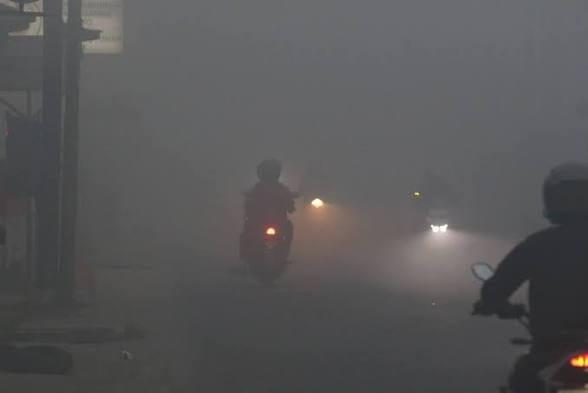Deteksi-Objek-Citra-Berasap: (0, 0, 588, 393)
Gedung: (0, 0, 125, 310)
Kendaraan: (470, 262, 588, 393), (240, 194, 301, 286), (411, 185, 460, 246)
Manusia: (474, 161, 588, 393), (239, 158, 299, 259)
